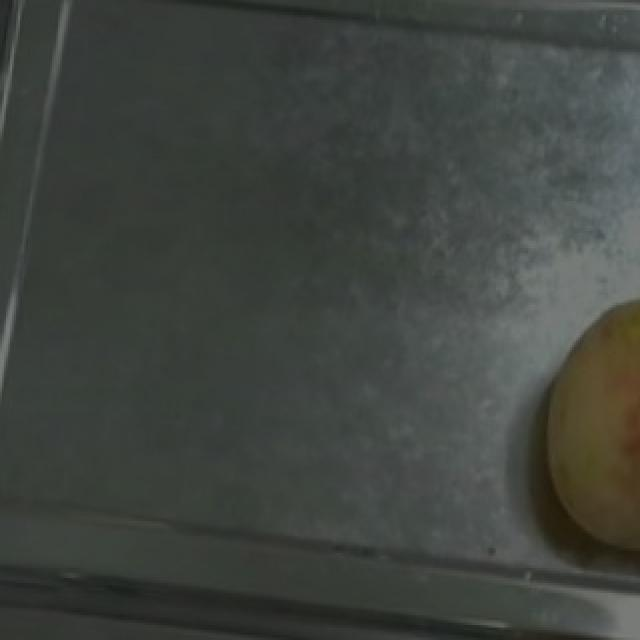Fruit: (520, 288, 640, 566)
